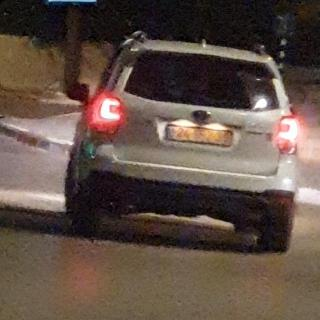LicensePlate: (172, 126, 231, 145)
